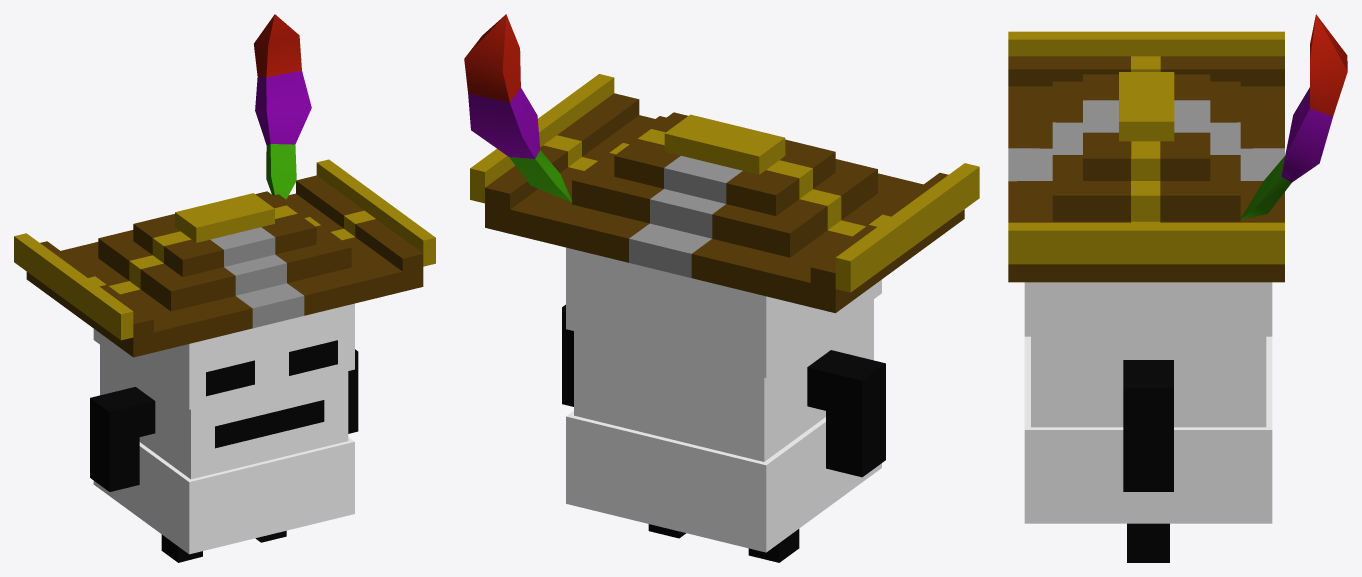
Rendered from character_marsh_3.fbx.
3 renders of one model, left to right at view 1: azimuth 30°, elevation 25°; view 2: azimuth 150°, elevation 25°; view 3: azimuth 270°, elevation 25°, orthographic. The views are drawn at different scales.
Visible parts, largest first — view 1: marsh_perso_003; view 2: marsh_perso_003; view 3: marsh_perso_003.
Part boxes in pixels (<box>): marsh_perso_003: <box>14,14,435,562</box>; marsh_perso_003: <box>464,14,979,562</box>; marsh_perso_003: <box>1008,14,1347,562</box>.
Size of the model in its own units: 38.01 by 52.38 by 27.43.
